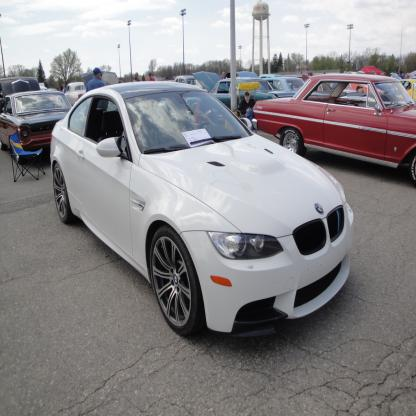Car: (50, 79, 356, 335), (251, 70, 415, 183), (187, 70, 296, 122), (0, 90, 75, 162)
